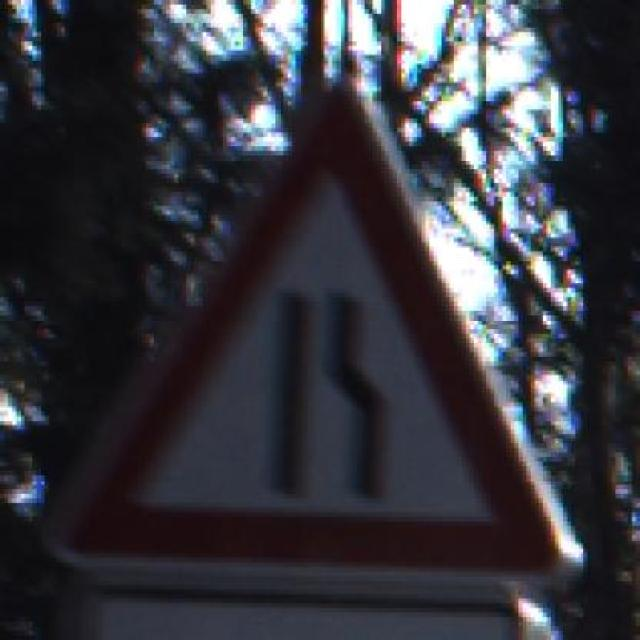-Road narrows on right: (41, 55, 604, 599)
